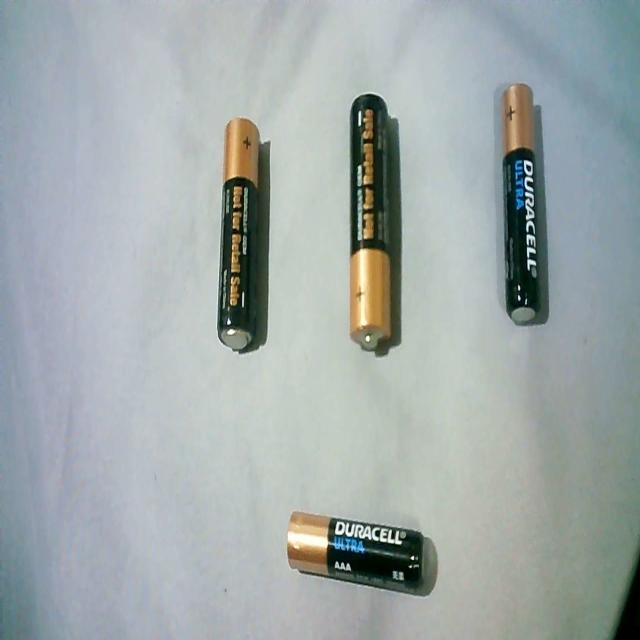AA: (344, 85, 398, 353), (214, 111, 266, 358)
AAA: (284, 502, 434, 604), (497, 73, 547, 330)
